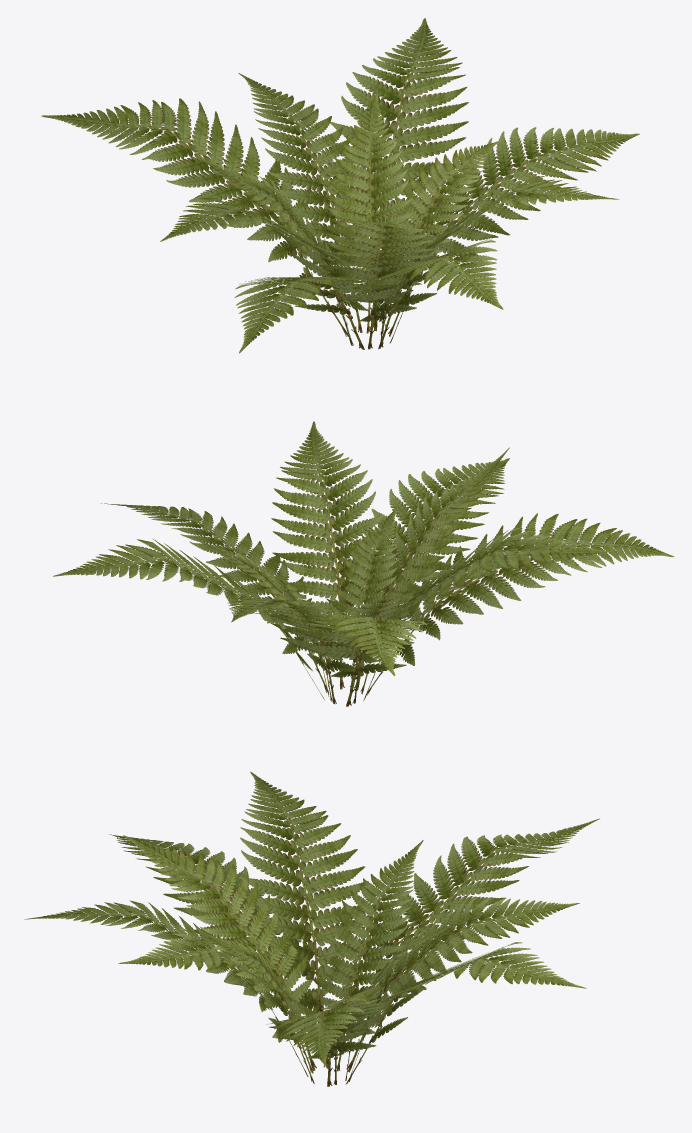
Rendered from fern_medium_a_lod1.gltf.
3 renders of one model, top to bottom at view 1: azimuth 30°, elevation 25°; view 2: azimuth 150°, elevation 25°; view 3: azimuth 270°, elevation 25°, orthographic. The views are drawn at different scales.
Visible parts, largest first — view 1: fern_medium_a_LOD1; view 2: fern_medium_a_LOD1; view 3: fern_medium_a_LOD1.
Part boxes in pixels (x1,y1,x2,y2): fern_medium_a_LOD1: (41, 18, 639, 353); fern_medium_a_LOD1: (53, 421, 674, 706); fern_medium_a_LOD1: (24, 771, 599, 1086).
Size of the model in its own units: 1.29 by 0.5073 by 1.35.
1 material, 1 textured.
